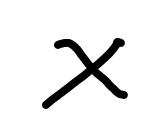mult: (42, 38, 128, 110)
